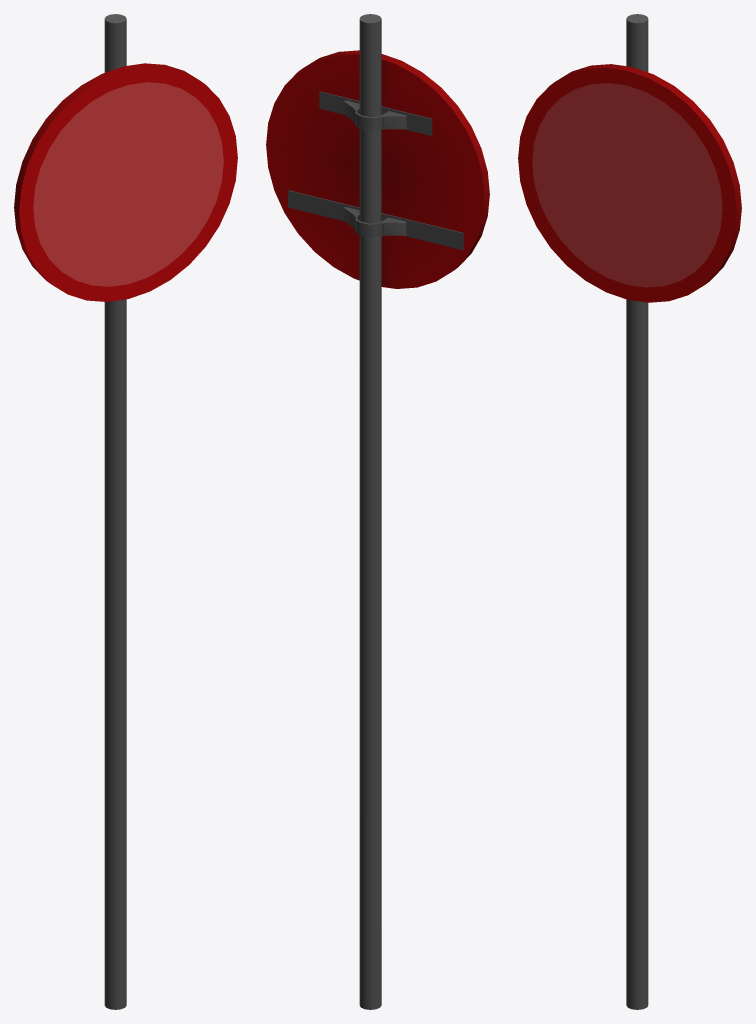
File: TrafficSignRound_Regular.fbx
3 renders of one model, left to right at view 1: azimuth 30°, elevation 25°; view 2: azimuth 150°, elevation 25°; view 3: azimuth 330°, elevation 25°, orthographic.
Visible parts, largest first — view 1: TrafficSignRound_Regular; view 2: TrafficSignRound_Regular; view 3: TrafficSignRound_Regular.
Boxes of the visible parts, <box> form: TrafficSignRound_Regular: <box>14,14,237,1009</box>; TrafficSignRound_Regular: <box>266,14,489,1009</box>; TrafficSignRound_Regular: <box>518,14,741,1009</box>.
Bounding box in the file's own units: 60.3 × 260 × 8.67.
